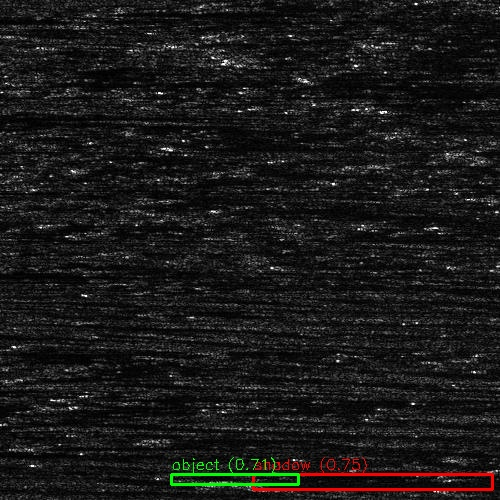rock: (169, 474, 314, 491), (134, 434, 187, 443), (454, 193, 500, 198)
shadow: (242, 474, 500, 491), (161, 434, 298, 443), (0, 113, 162, 118), (0, 13, 25, 24)
